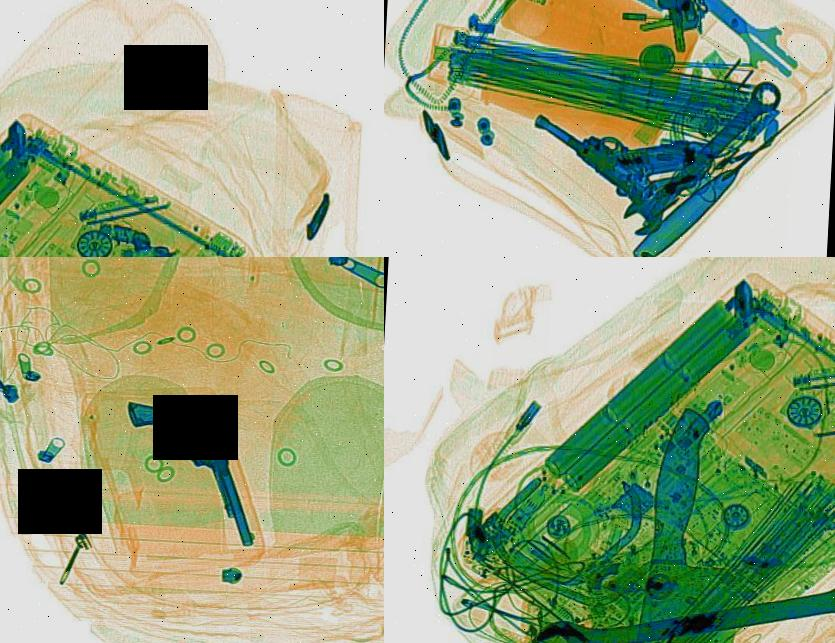Gun: (115, 372, 265, 570), (526, 57, 700, 214)
Knife: (596, 401, 784, 643), (627, 70, 835, 257), (633, 0, 815, 90)
Wrench: (614, 65, 790, 250), (516, 547, 835, 643)
